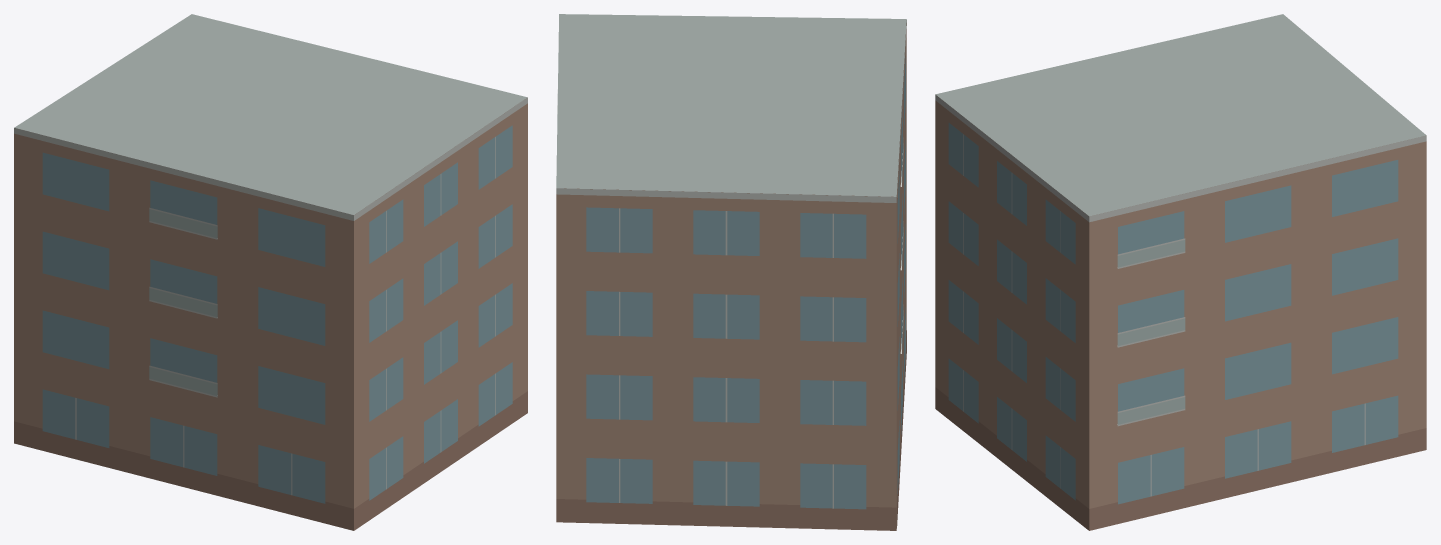
Rendered from survey-upis-32770170.glb.
The picture shows the model from 3 angles, left to right: view 1: azimuth 30°, elevation 25°; view 2: azimuth 150°, elevation 25°; view 3: azimuth 270°, elevation 25°; orthographic projection. The views are drawn at different scales.
Visible parts, largest first — view 1: survey-upis-32770170.tmp; view 2: survey-upis-32770170.tmp; view 3: survey-upis-32770170.tmp.
Part boxes in pixels (x1,y1,x2,y2): survey-upis-32770170.tmp: (14, 14, 527, 530); survey-upis-32770170.tmp: (556, 14, 906, 530); survey-upis-32770170.tmp: (935, 14, 1426, 530).
Bounding box in the file's own units: 17.95 × 13 × 18.42.
